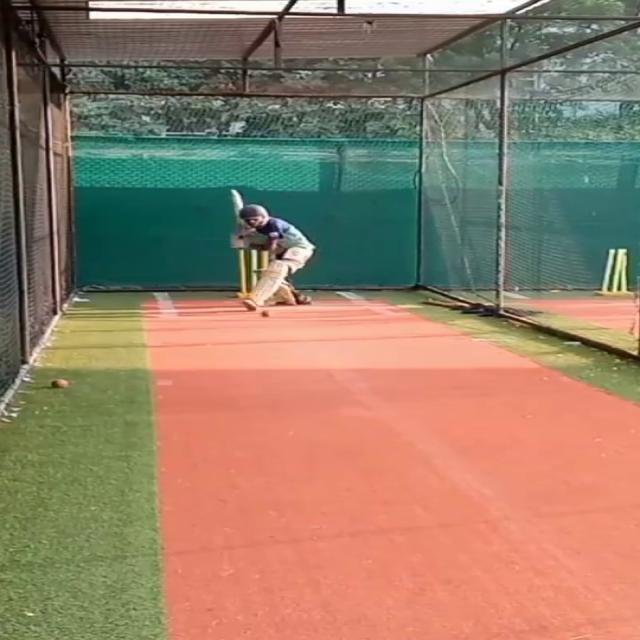ball: (46, 376, 70, 391)
stump: (596, 246, 635, 297), (235, 245, 271, 298)
